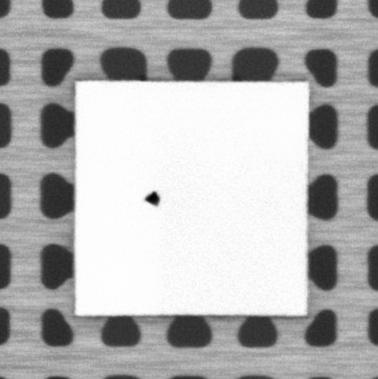DIE_INK: (143, 189, 162, 207)
